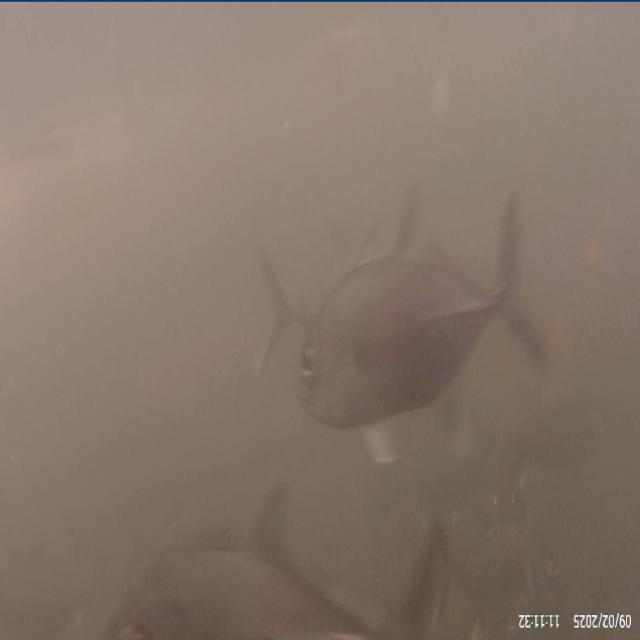ikan: (272, 238, 572, 417)
